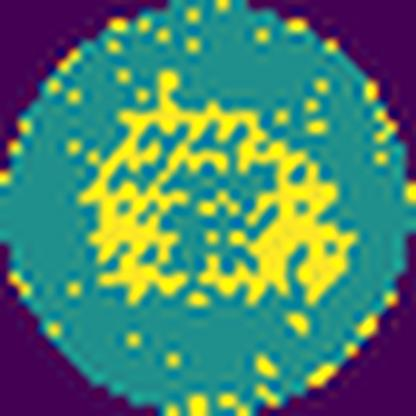Donut: (74, 73, 363, 313)
